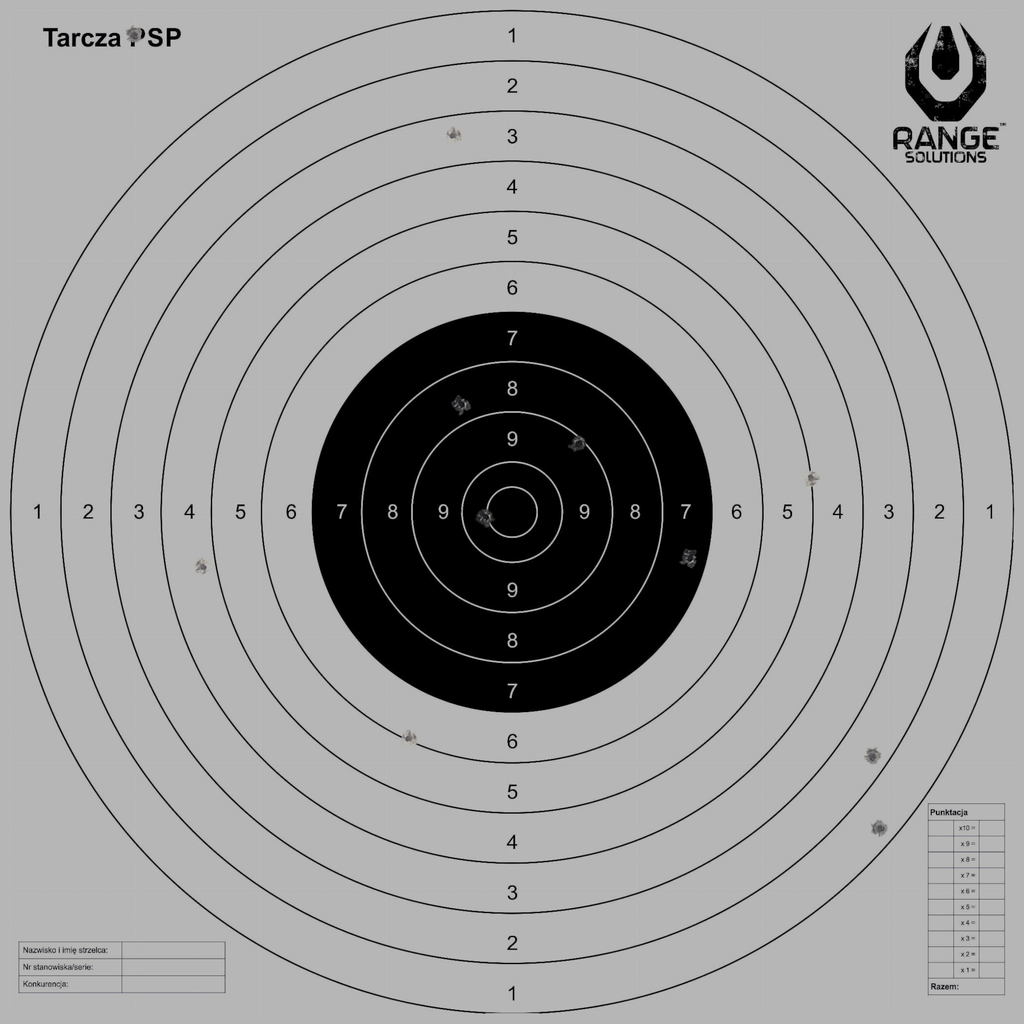0 punktow: (125, 26, 143, 44)
1 punkt: (871, 819, 889, 838)
10 punktow: (477, 508, 495, 527)
2 punkty: (863, 747, 882, 766)
3 punkty: (444, 126, 462, 145)
4 punkty: (194, 558, 212, 576)
5 punktow: (802, 469, 820, 487)
6 punktow: (399, 729, 418, 748)
7 punktow: (681, 549, 699, 567)
8 punktow: (452, 395, 470, 413)
9 punktow: (569, 435, 588, 453)
